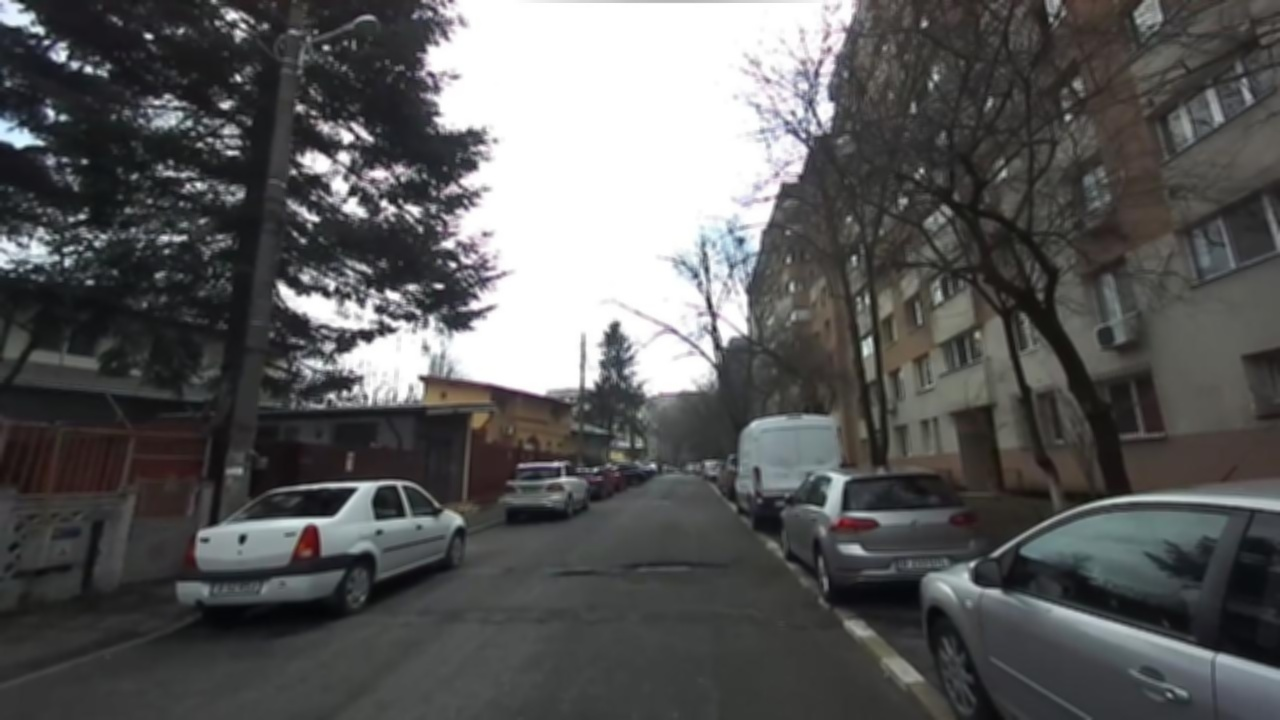pothole: (626, 557, 733, 577), (552, 567, 608, 579)
